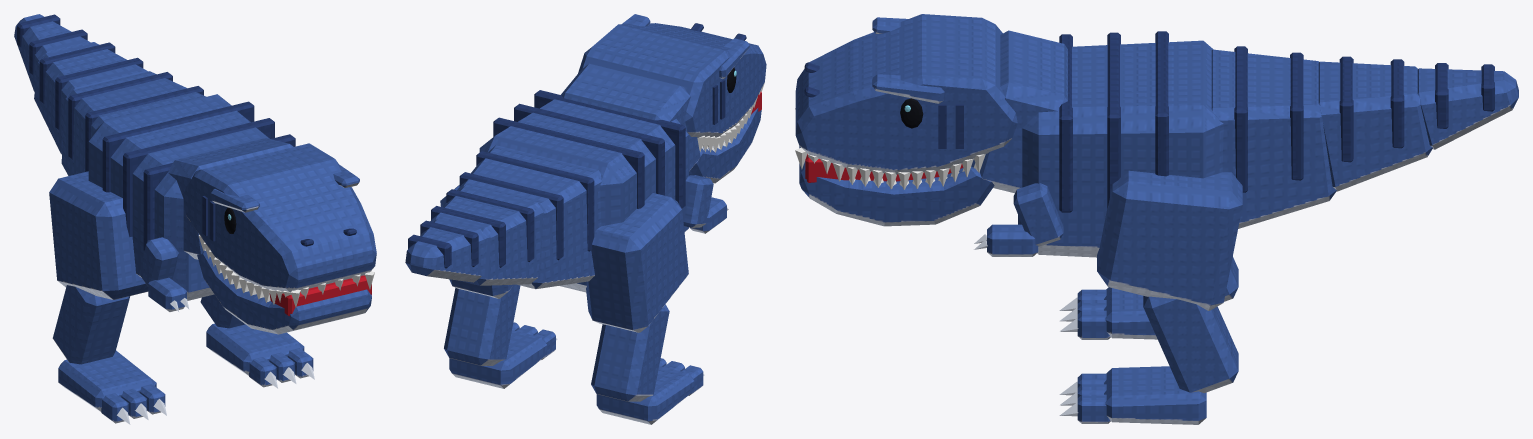
The model's file is trex_blocs_bleu.glb.
3 views of the same model, side by side, from view 1: azimuth 30°, elevation 25°; view 2: azimuth 150°, elevation 25°; view 3: azimuth 270°, elevation 25° (orthographic). The views are drawn at different scales.
Parts seen in each view (by area): view 1: TRex; view 2: TRex; view 3: TRex.
Part boxes in pixels (x1,y1,x2,y2): TRex: (14,14,376,424); TRex: (405,14,766,424); TRex: (795,14,1518,424).
Size of the model in its own units: 4.1 by 5.22 by 10.55.
1 material, 1 textured.
